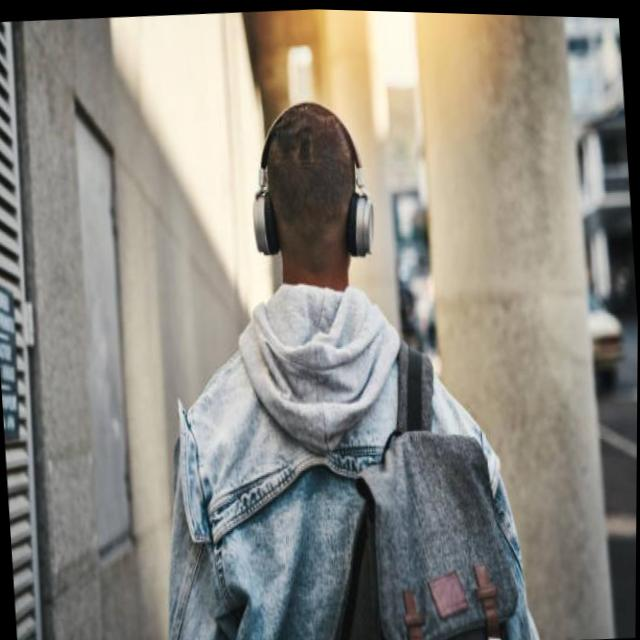no helmet: (215, 78, 391, 347)
